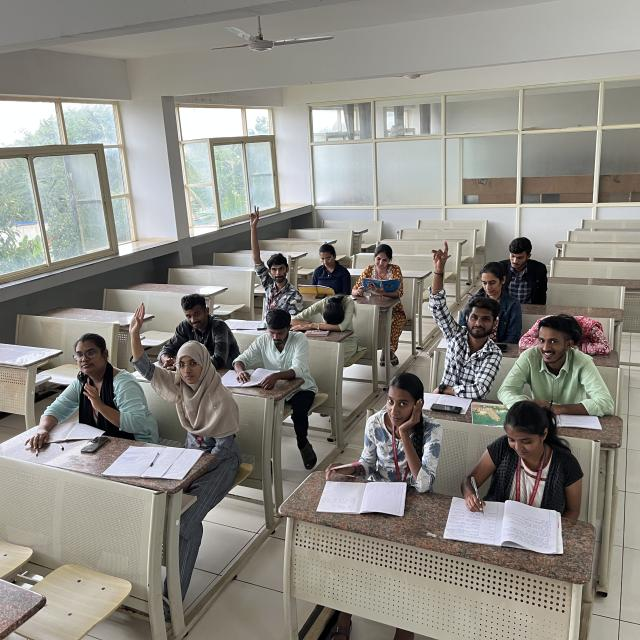Hand Rising: (124, 306, 248, 447), (421, 241, 498, 385), (239, 205, 302, 313)
Reading: (220, 309, 314, 404), (441, 270, 520, 356), (350, 244, 424, 302), (295, 245, 349, 295)
Sleeping: (516, 306, 614, 347), (298, 291, 362, 337)
Using Phone: (150, 298, 224, 368)
Writing: (456, 399, 581, 547)
